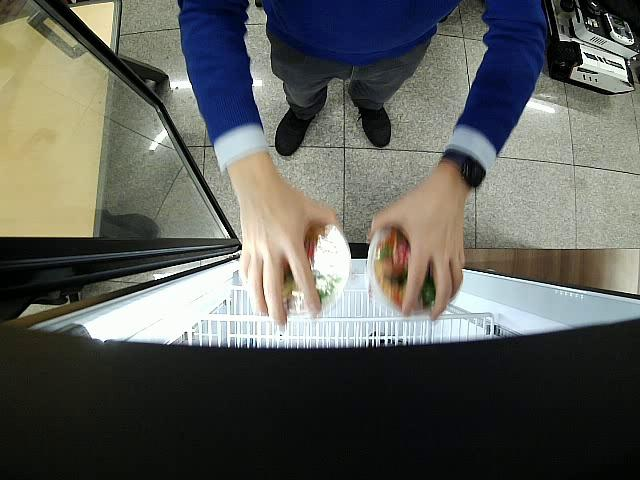00_hand: (240, 167, 342, 327), (367, 181, 465, 320)
09_yukGaeJang: (357, 229, 436, 315), (283, 223, 348, 317)
